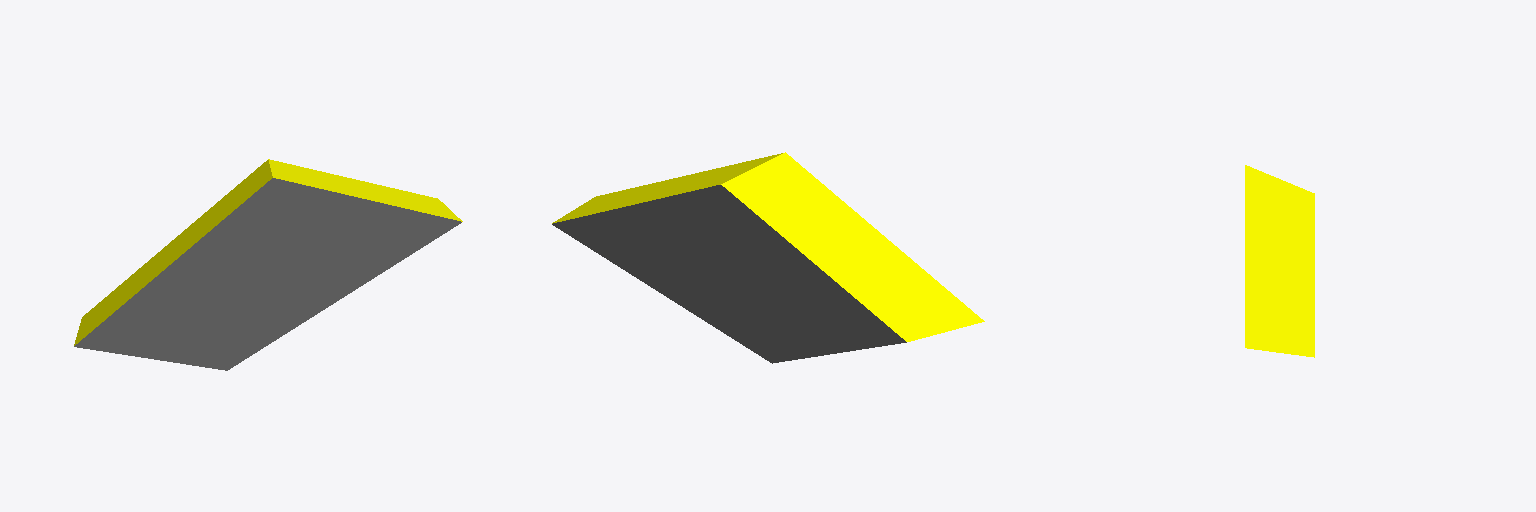
The model's file is shard_text_notexture.obj.
3 renders of one model, left to right at view 1: azimuth 30°, elevation 25°; view 2: azimuth 150°, elevation 25°; view 3: azimuth 270°, elevation 25°, orthographic.
Visible parts, largest first — view 1: shard119; view 2: shard119; view 3: shard119.
Part boxes in pixels (x1,y1,x2,y2): shard119: (74,159,462,370); shard119: (552,152,984,363); shard119: (1245,165,1314,357).
Size of the model in its own units: 1.51 by 0.6571 by 0.2262.